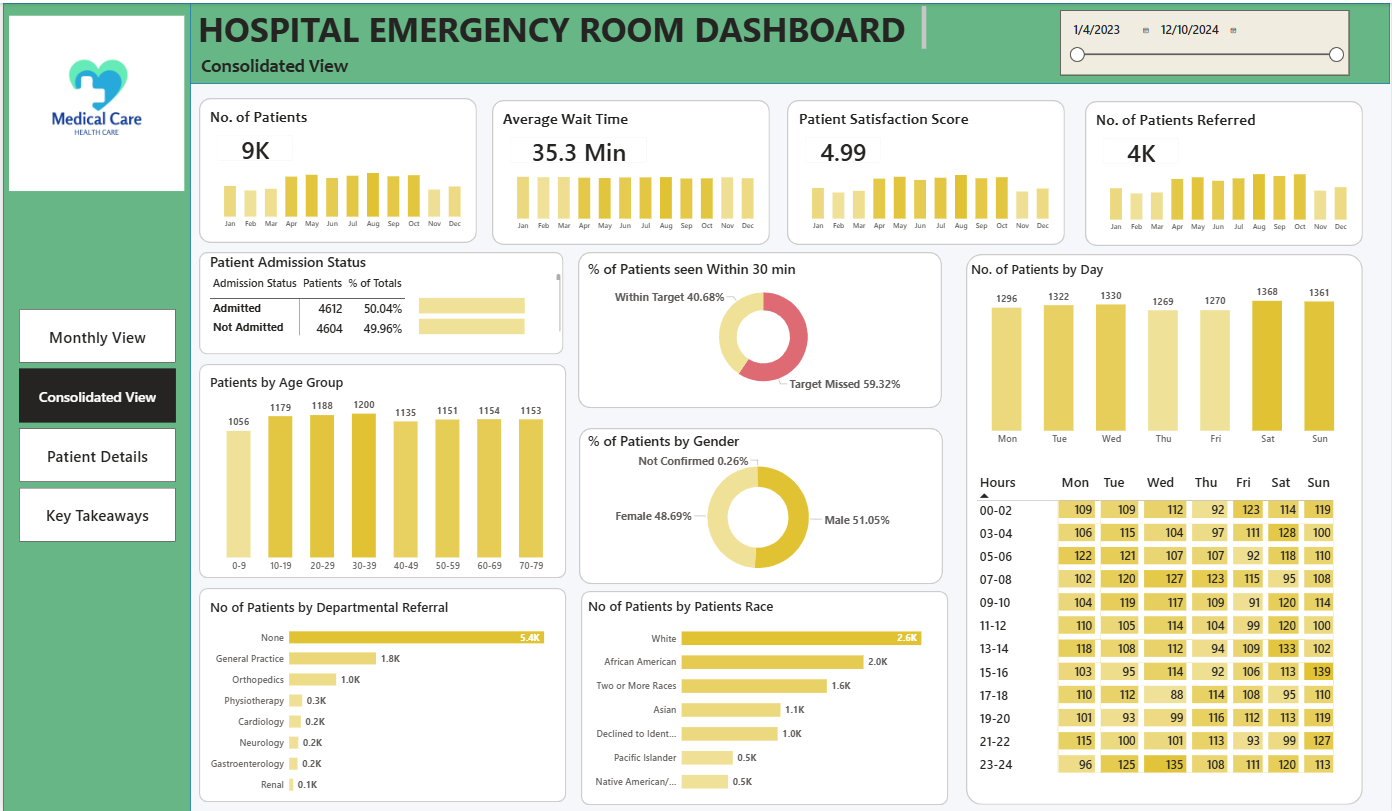

This screenshot's page, from the dashboard's own definition file:
{"tool":"powerbi","page":{"name":"Consolidated View","canvas":[2400,1400],"ordinal":1},"visuals":[{"type":"shape","box":[307.7,0,2089.6,140],"z":0},{"type":"shape","box":[338.8,164.2,480.5,250.6],"z":1000},{"type":"textbox","box":[331.9,0,1269.3,85.7],"z":2000},{"type":"textbox","box":[337.4,83.9,299.1,56.5],"z":3000},{"type":"slicer","fields":{"Values":["Date Table.Date"]},"box":[1827.4,12.8,499.7,113.1],"z":4000},{"type":"shape","box":[0,0,324.6,1400.6],"z":5000},{"type":"textbox","box":[352.6,176.3,240.2,58.8],"z":6000},{"type":"cardVisual","fields":{"Data":["Hospital ER_Data.No. of Patients"]},"box":[352.6,210.9,165.9,79.5],"z":7000},{"type":"columnChart","fields":{"Category":["Date Table.Month"],"Y":["Hospital ER_Data.No. of Patients"]},"box":[363,274.8,447.7,124.4],"z":8000},{"type":"shape","box":[845.5,167.7,480.5,250.6],"z":9000},{"type":"textbox","box":[859.4,179.8,240.2,58.8],"z":10000},{"type":"cardVisual","fields":{"Data":["Hospital ER_Data.Avg Wait Time"]},"box":[859,214.3,271.4,79.5],"z":11000},{"type":"columnChart","fields":{"Category":["Date Table.Month"],"Y":["Avg(Hospital ER_Data.Patient Waittime)"]},"box":[869.7,278.3,447.7,124.4],"z":12000},{"type":"shape","box":[1355.6,168.4,480.5,250.6],"z":13000},{"type":"textbox","box":[1370.1,180.5,330.1,58.8],"z":14000},{"type":"cardVisual","fields":{"Data":["Avg(Hospital ER_Data.Patient Satisfaction Score)"]},"box":[1369.5,215.1,165.9,79.5],"z":15000},{"type":"columnChart","fields":{"Category":["Date Table.Month"],"Y":["Hospital ER_Data.No. of Patients"]},"box":[1379.8,279,447.7,124.4],"z":16000},{"type":"shape","box":[1869.9,170.1,480.5,250.6],"z":17000},{"type":"textbox","box":[1883.5,182.2,314.6,58.8],"z":18000},{"type":"cardVisual","fields":{"Data":["Hospital ER_Data.No.of Patients Referred"]},"box":[1883.7,216.8,165.9,79.5],"z":19000},{"type":"columnChart","fields":{"Category":["Date Table.Month"],"Y":["Hospital ER_Data.No.of Patients Referred"]},"box":[1894.1,280.8,447.7,124.4],"z":20000},{"type":"shape","box":[338.1,429.8,630,177],"z":21000},{"type":"pivotTable","title":"Patient Admission Status","fields":{"Rows":["Hospital ER_Data.Admission Status"],"Values":["Hospital ER_Data.No. of Patients1","Hospital ER_Data.No. of Patients"]},"box":[351.9,429.8,617,148.6],"z":22000},{"type":"barChart","fields":{"Category":["Hospital ER_Data.Admission Status"],"Y":["Hospital ER_Data.No. of Patients"]},"box":[714.2,478.3,248,118.5],"z":23000},{"type":"shape","box":[339.2,623.4,634.7,370.2],"z":24000},{"type":"shape","box":[1665,434,685.7,952],"z":25000},{"type":"clusteredColumnChart","title":"Patients by Age Group","fields":{"Category":["Hospital ER_Data.Age Group"],"Y":["Hospital ER_Data.No. of Patients"]},"box":[352.4,639.7,616.4,353.8],"z":26000},{"type":"shape","box":[339.2,1011.9,634.7,370.2],"z":27000},{"type":"clusteredBarChart","title":"No of Patients by Departmental Referral","fields":{"Category":["Hospital ER_Data.Department Referral"],"Y":["Hospital ER_Data.No. of Patients"]},"box":[352.7,1028.4,616.4,353.8],"z":28000},{"type":"shape","box":[993.9,430.4,629.2,269.9],"z":29000},{"type":"donutChart","title":"% of Patients seen Within 30 min","fields":{"Category":["Hospital ER_Data.Waittime Status"],"Y":["Hospital ER_Data.No. of Patients"]},"box":[1006.7,443.2,616.4,237.1],"z":30000},{"type":"shape","box":[994.8,734,629.2,269.9],"z":31000},{"type":"donutChart","title":"% of Patients by Gender","fields":{"Category":["Hospital ER_Data.Patient Gender"],"Y":["Hospital ER_Data.No. of Patients"]},"box":[1006.7,740.4,598.2,266.3],"z":32000},{"type":"shape","box":[998.4,1016.4,634.7,370.2],"z":33000},{"type":"clusteredBarChart","title":"No of Patients by Patients Race","fields":{"Y":["Hospital ER_Data.No. of Patients"],"Category":["Hospital ER_Data.Patient Race"]},"box":[1006.7,1026.7,616.4,353.8],"z":34000},{"type":"pivotTable","fields":{"Rows":["Hospital ER_Data.Waittime Interval"],"Columns":["Date Table.Day Name"],"Values":["Hospital ER_Data.No. of Patients"]},"box":[1677.8,807.9,663.8,559.9],"z":35000},{"type":"columnChart","title":"No. of Patients by Day","fields":{"Y":["Hospital ER_Data.No. of Patients"],"Category":["Date Table.Day Name"]},"box":[1668.7,445,676.6,330.1],"z":36000},{"type":"image","box":[10.9,0,302.7,346.5],"z":37000},{"type":"pageNavigator","box":[27.7,528.9,271.4,402.7],"z":38000}]}

Visuals, with their boxes in screenshot pixels (x1, y1, x2, y2), scaled from the page's 2400x1400 canvas onto the 1392x811 screenshot:
shape: [x1=178, y1=0, x2=1390, y2=81]
shape: [x1=197, y1=95, x2=475, y2=240]
textbox: [x1=193, y1=0, x2=929, y2=50]
textbox: [x1=196, y1=49, x2=369, y2=81]
slicer - Date Table.Date: [x1=1060, y1=7, x2=1350, y2=73]
shape: [x1=0, y1=0, x2=188, y2=810]
textbox: [x1=205, y1=102, x2=344, y2=136]
cardVisual - Hospital ER_Data.No. of Patients: [x1=205, y1=122, x2=301, y2=168]
columnChart - Date Table.Month x Hospital ER_Data.No. of Patients: [x1=211, y1=159, x2=470, y2=231]
shape: [x1=490, y1=97, x2=769, y2=242]
textbox: [x1=498, y1=104, x2=638, y2=138]
cardVisual - Hospital ER_Data.Avg Wait Time: [x1=498, y1=124, x2=656, y2=170]
columnChart - Date Table.Month x Avg(Hospital ER_Data.Patient Waittime): [x1=504, y1=161, x2=764, y2=233]
shape: [x1=786, y1=98, x2=1065, y2=243]
textbox: [x1=795, y1=105, x2=986, y2=139]
cardVisual - Avg(Hospital ER_Data.Patient Satisfaction Score): [x1=794, y1=125, x2=891, y2=171]
columnChart - Date Table.Month x Hospital ER_Data.No. of Patients: [x1=800, y1=162, x2=1060, y2=234]
shape: [x1=1085, y1=99, x2=1363, y2=244]
textbox: [x1=1092, y1=106, x2=1275, y2=140]
cardVisual - Hospital ER_Data.No.of Patients Referred: [x1=1093, y1=126, x2=1189, y2=172]
columnChart - Date Table.Month x Hospital ER_Data.No.of Patients Referred: [x1=1099, y1=163, x2=1358, y2=235]
shape: [x1=196, y1=249, x2=561, y2=352]
"Patient Admission Status" pivotTable: [x1=204, y1=249, x2=562, y2=335]
barChart - Hospital ER_Data.Admission Status x Hospital ER_Data.No. of Patients: [x1=414, y1=277, x2=558, y2=346]
shape: [x1=197, y1=361, x2=565, y2=576]
shape: [x1=966, y1=251, x2=1363, y2=803]
"Patients by Age Group" clusteredColumnChart: [x1=204, y1=371, x2=562, y2=576]
shape: [x1=197, y1=586, x2=565, y2=801]
"No of Patients by Departmental Referral" clusteredBarChart: [x1=205, y1=596, x2=562, y2=801]
shape: [x1=576, y1=249, x2=941, y2=406]
"% of Patients seen Within 30 min" donutChart: [x1=584, y1=257, x2=941, y2=394]
shape: [x1=577, y1=425, x2=942, y2=582]
"% of Patients by Gender" donutChart: [x1=584, y1=429, x2=931, y2=583]
shape: [x1=579, y1=589, x2=947, y2=803]
"No of Patients by Patients Race" clusteredBarChart: [x1=584, y1=595, x2=941, y2=800]
pivotTable - Hospital ER_Data.Waittime Interval x Date Table.Day Name: [x1=973, y1=468, x2=1358, y2=792]
"No. of Patients by Day" columnChart: [x1=968, y1=258, x2=1360, y2=449]
image: [x1=6, y1=0, x2=182, y2=201]
pageNavigator: [x1=16, y1=306, x2=173, y2=540]
